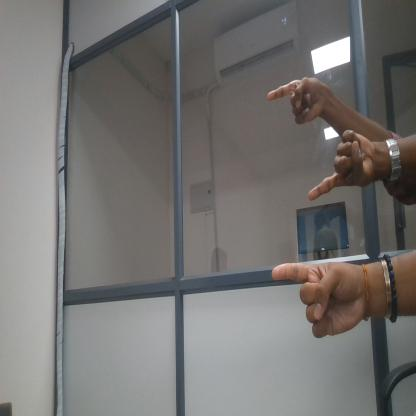Left: (268, 248, 384, 352), (303, 122, 389, 214), (262, 70, 334, 130)
